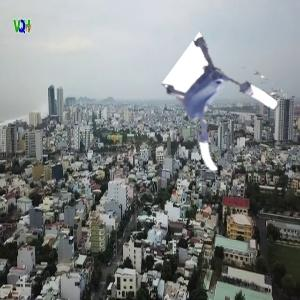drone: (157, 53, 272, 168)
